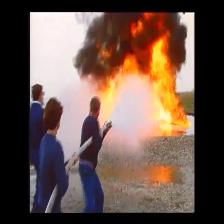fire: (103, 49, 184, 132)
smoke: (98, 11, 177, 41)
